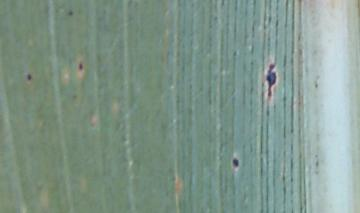tarspot: (266, 64, 277, 98), (232, 157, 240, 167), (78, 62, 84, 71), (27, 74, 33, 81), (68, 11, 74, 16)
